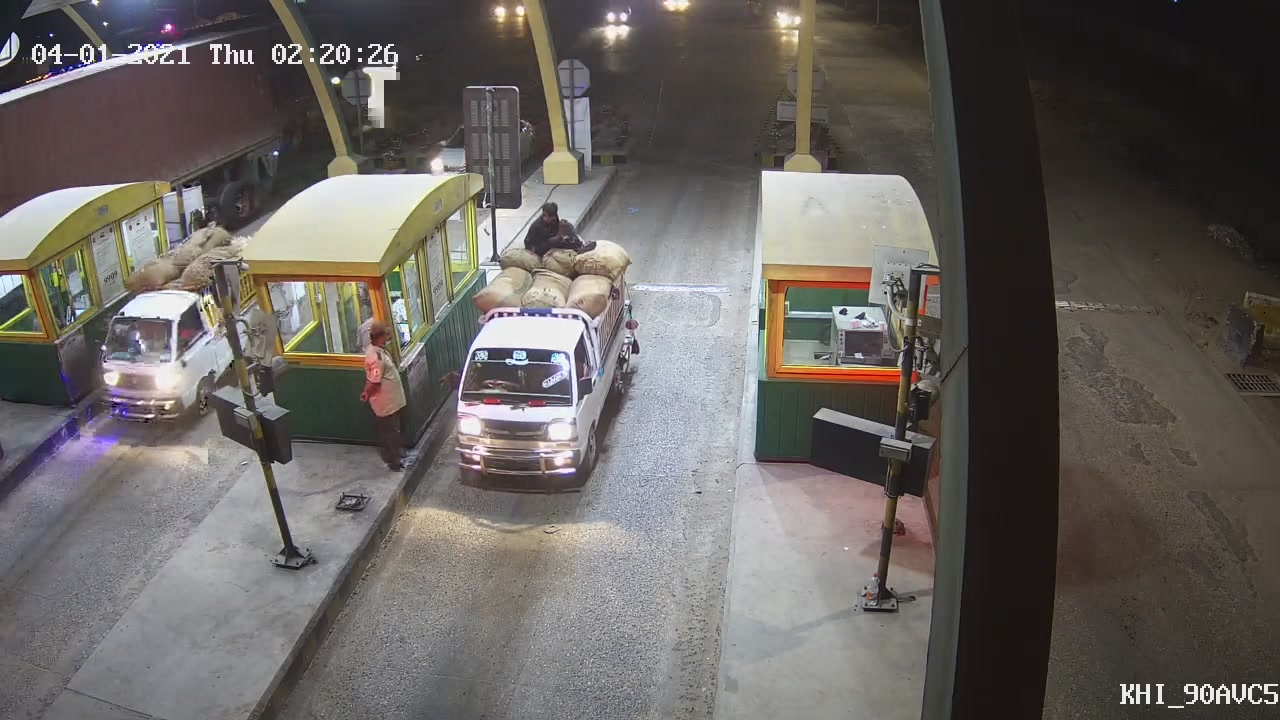F1: (446, 227, 640, 490)
